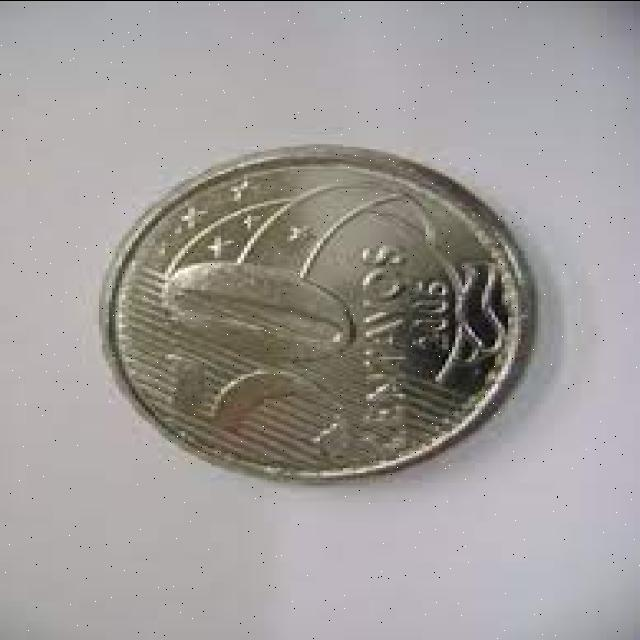50 cent: (101, 133, 543, 479)
